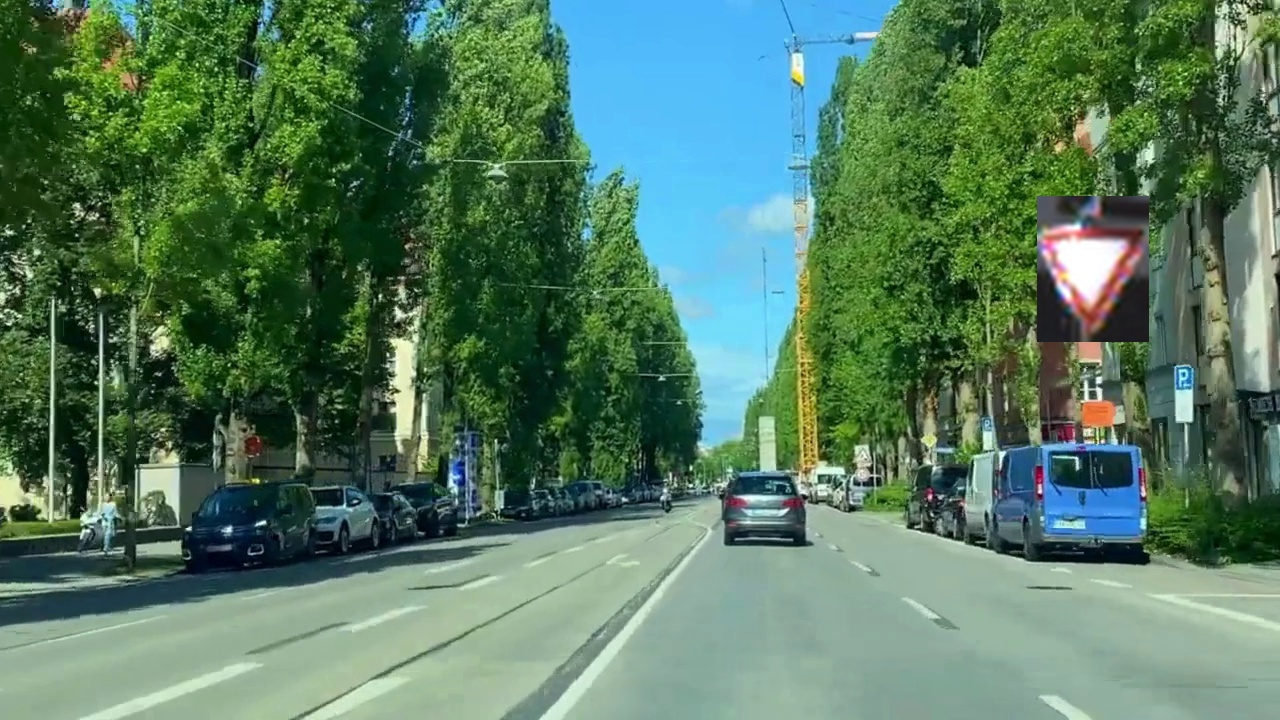Yield: (1037, 196, 1149, 342)
